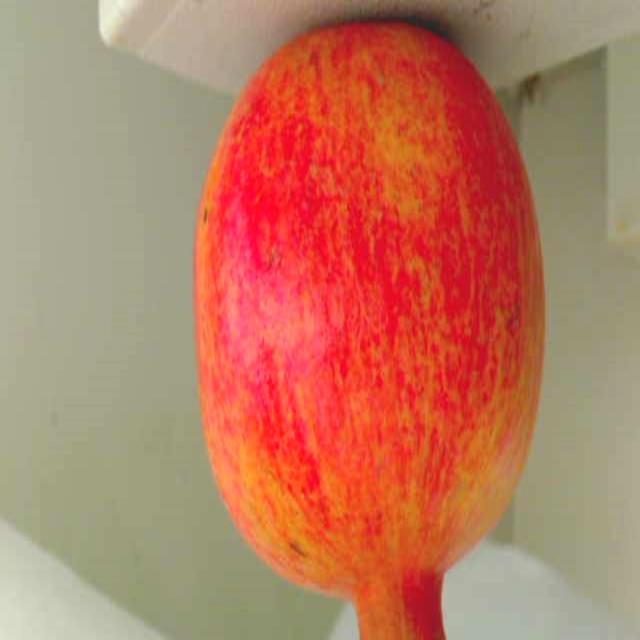pomegranate: (188, 0, 550, 640)
